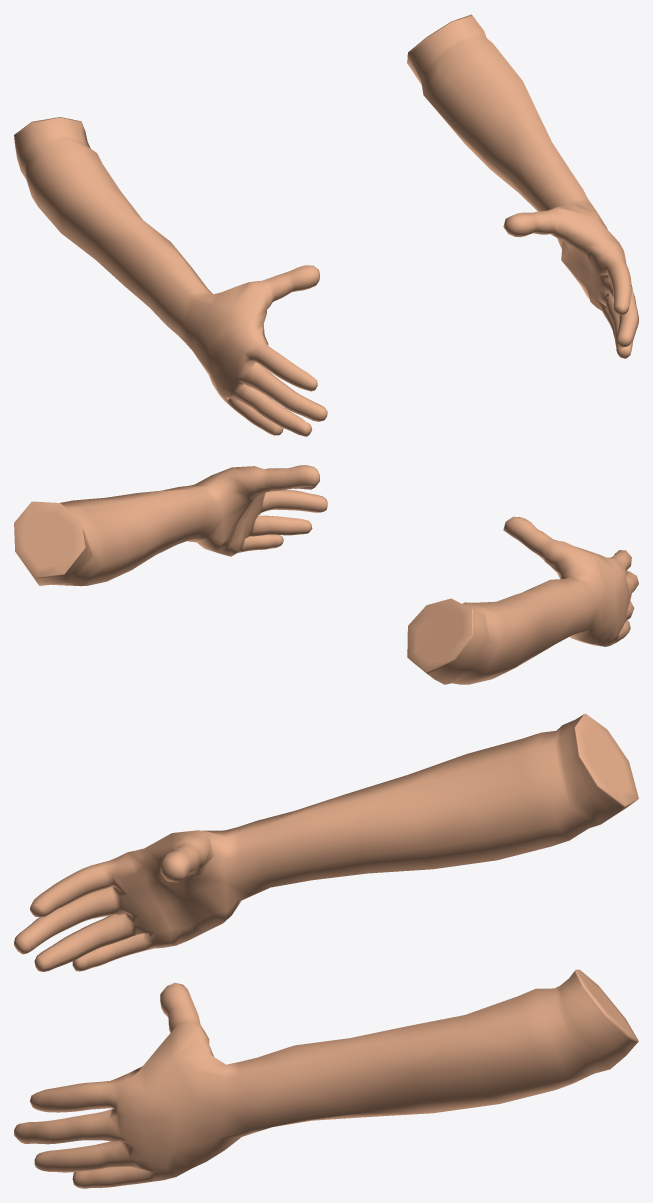
The model's file is Hands.fbx.
3 renders of one model, top to bottom at view 1: azimuth 30°, elevation 25°; view 2: azimuth 150°, elevation 25°; view 3: azimuth 270°, elevation 25°, orthographic. The views are drawn at different scales.
Visible parts, largest first — view 1: Hands; view 2: Hands; view 3: Hands.
Part boxes in pixels (box(x1,y1,x2,y2)): Hands: box(14, 14, 638, 436); Hands: box(14, 465, 638, 684); Hands: box(14, 713, 638, 1188).
Bounding box in the file's own units: 7.9 × 2.88 × 7.08.
